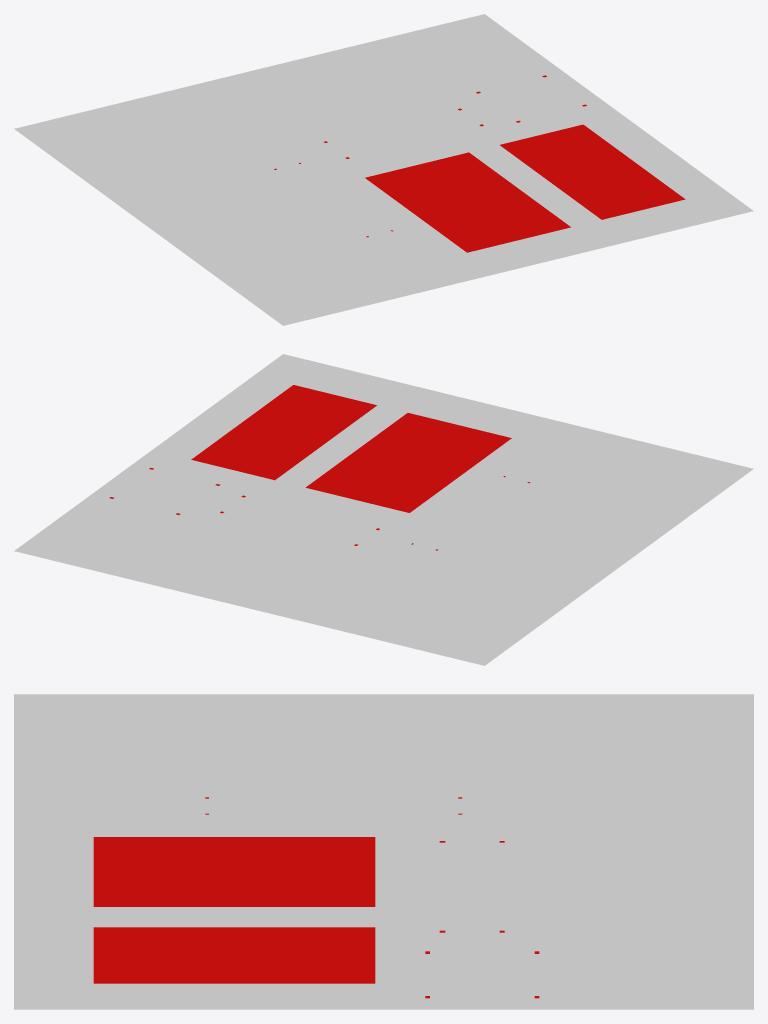
Rendered from floor.fbx.
3 renders of one model, top to bottom at view 1: azimuth 30°, elevation 25°; view 2: azimuth 150°, elevation 25°; view 3: azimuth 270°, elevation 25°, orthographic. The views are drawn at different scales.
Visible parts, largest first — view 1: Plane; view 2: Plane; view 3: Plane.
Boxes of the visible parts, x1=… form: Plane: x1=14, y1=14, x2=753, y2=325; Plane: x1=14, y1=354, x2=753, y2=665; Plane: x1=14, y1=694, x2=753, y2=1009.
Size of the model in its own units: 108 by 107 by 1.28e-05.
